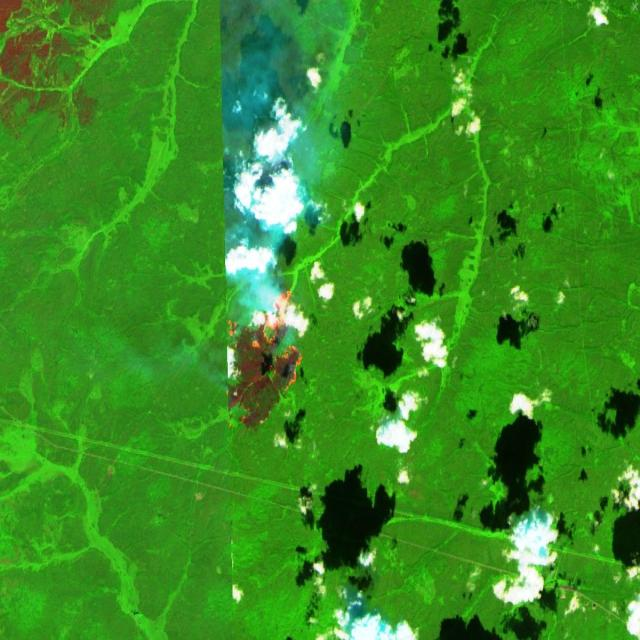fire: (228, 271, 306, 407)
